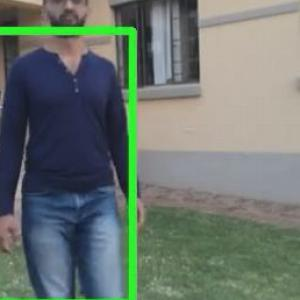follow: (14, 0, 128, 299)
